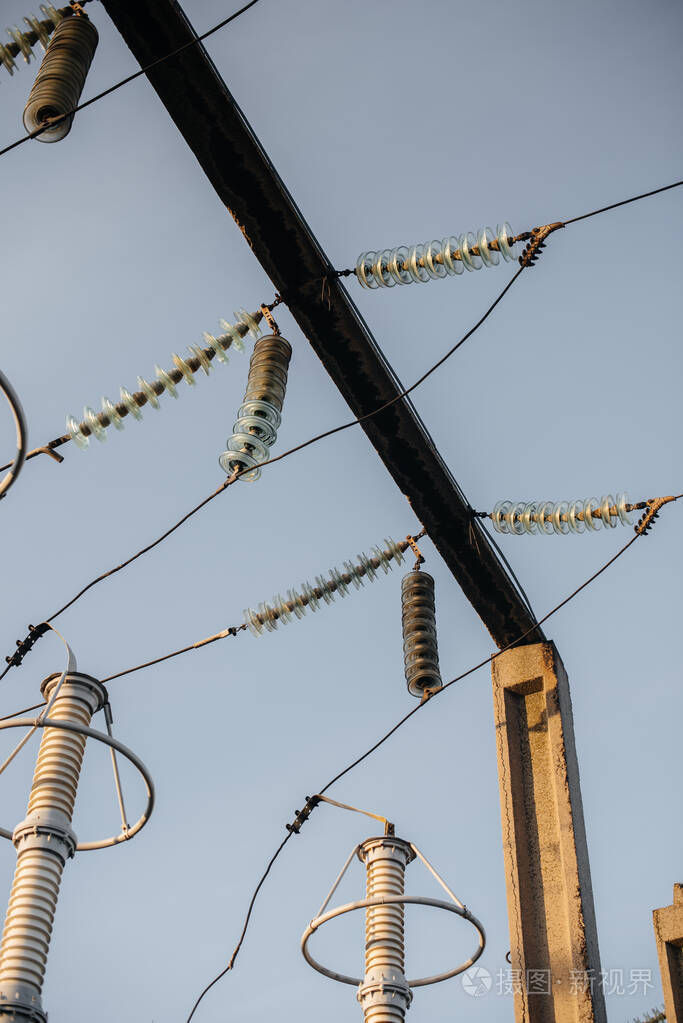insulator: (64, 312, 256, 450), (242, 536, 405, 634), (354, 219, 516, 289), (218, 336, 294, 478), (23, 13, 99, 137), (493, 493, 632, 536), (400, 567, 443, 696), (1, 3, 61, 68)
